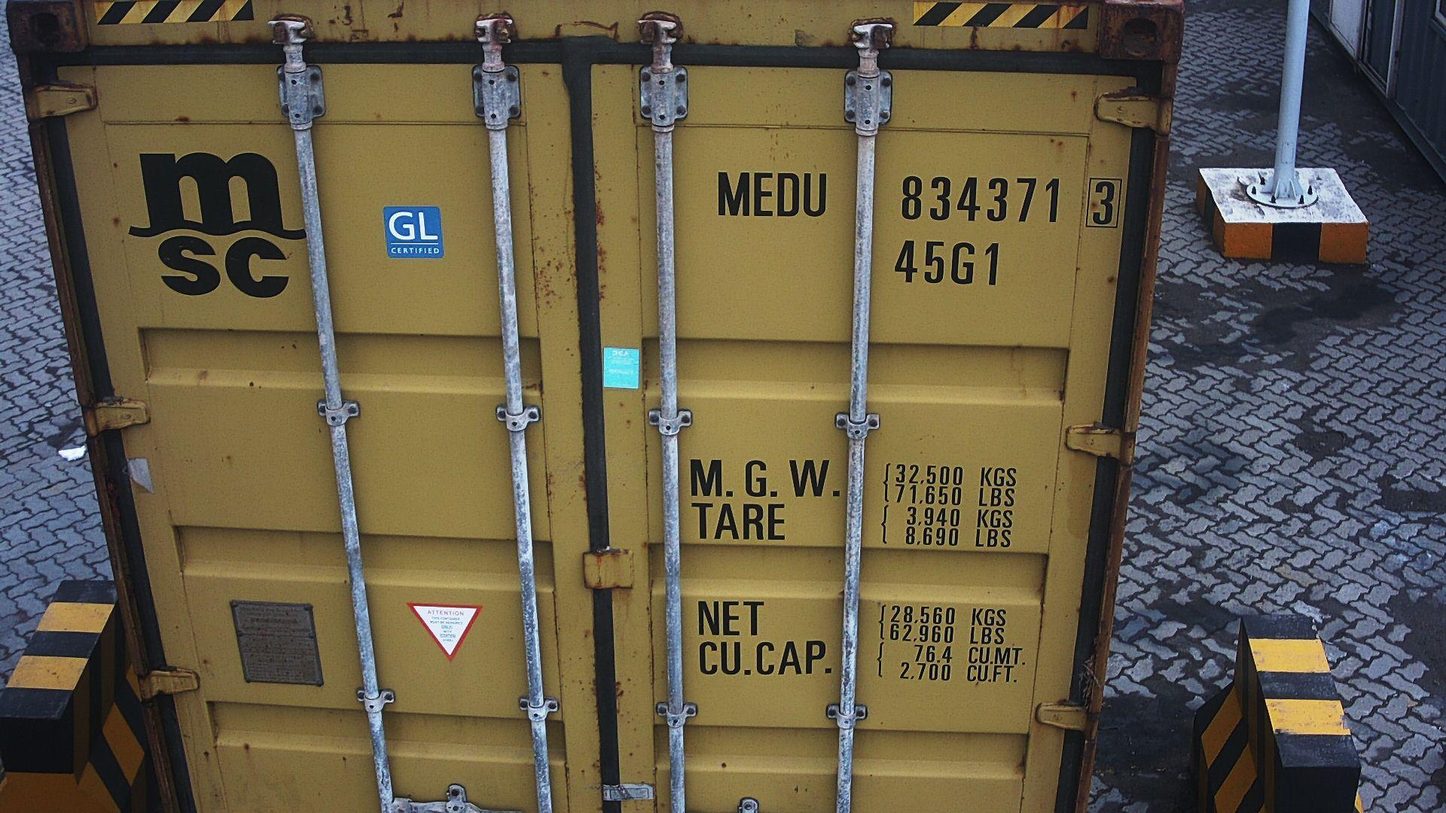container-numbers: (711, 168, 1128, 233), (891, 236, 1006, 291)
